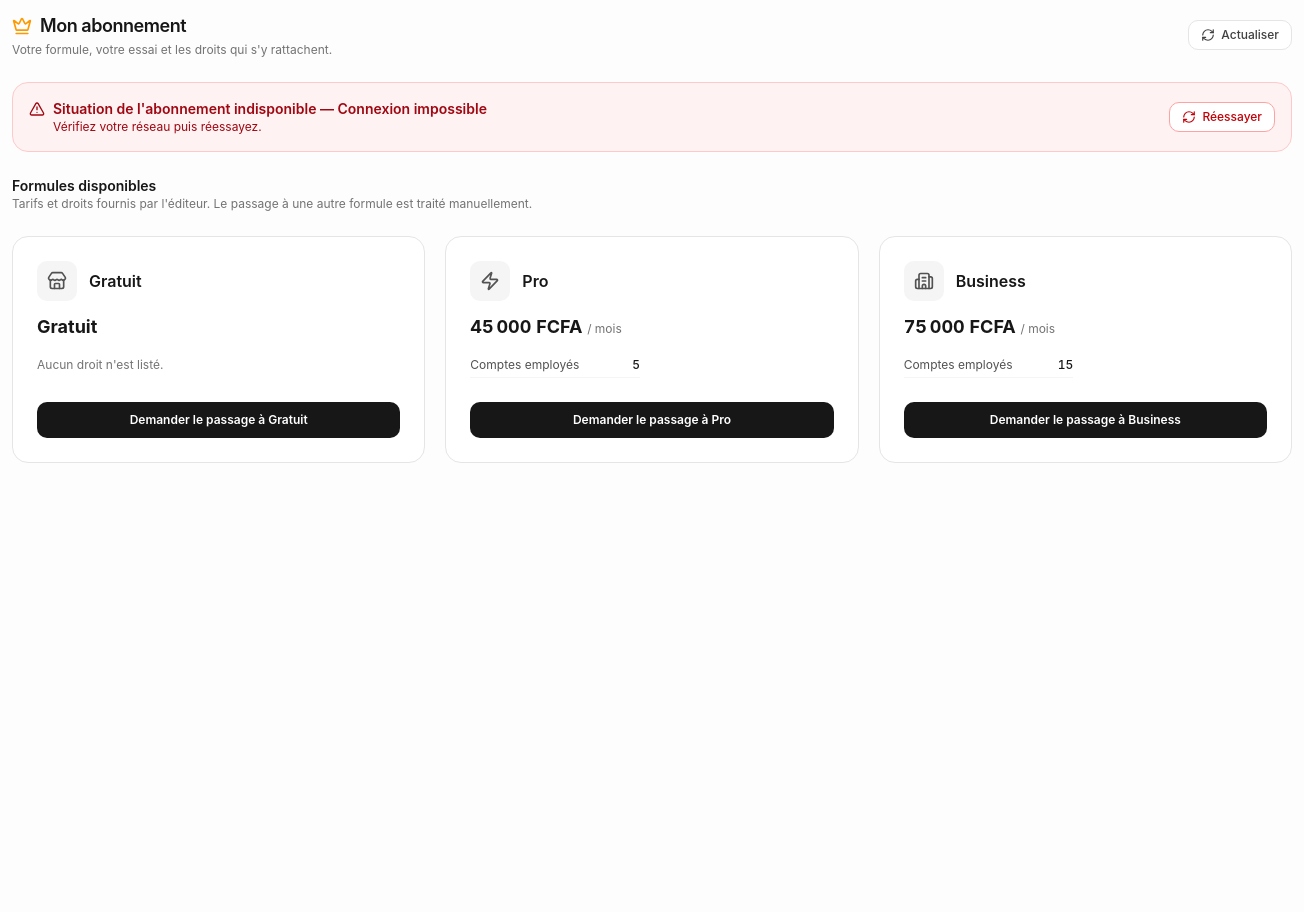
Test case: BillingView — Mon abonnement › réessaie le chargement après une erreur réseau
This screenshot has width=1304, height=912.
Check: the text "Connexion impossible" is shown, box x1=338 y1=100 x2=487 y2=117
Click the button "Réessayer". click: {"x": 1222, "y": 117}
box: x1=1169 y1=102 x2=1275 y2=132
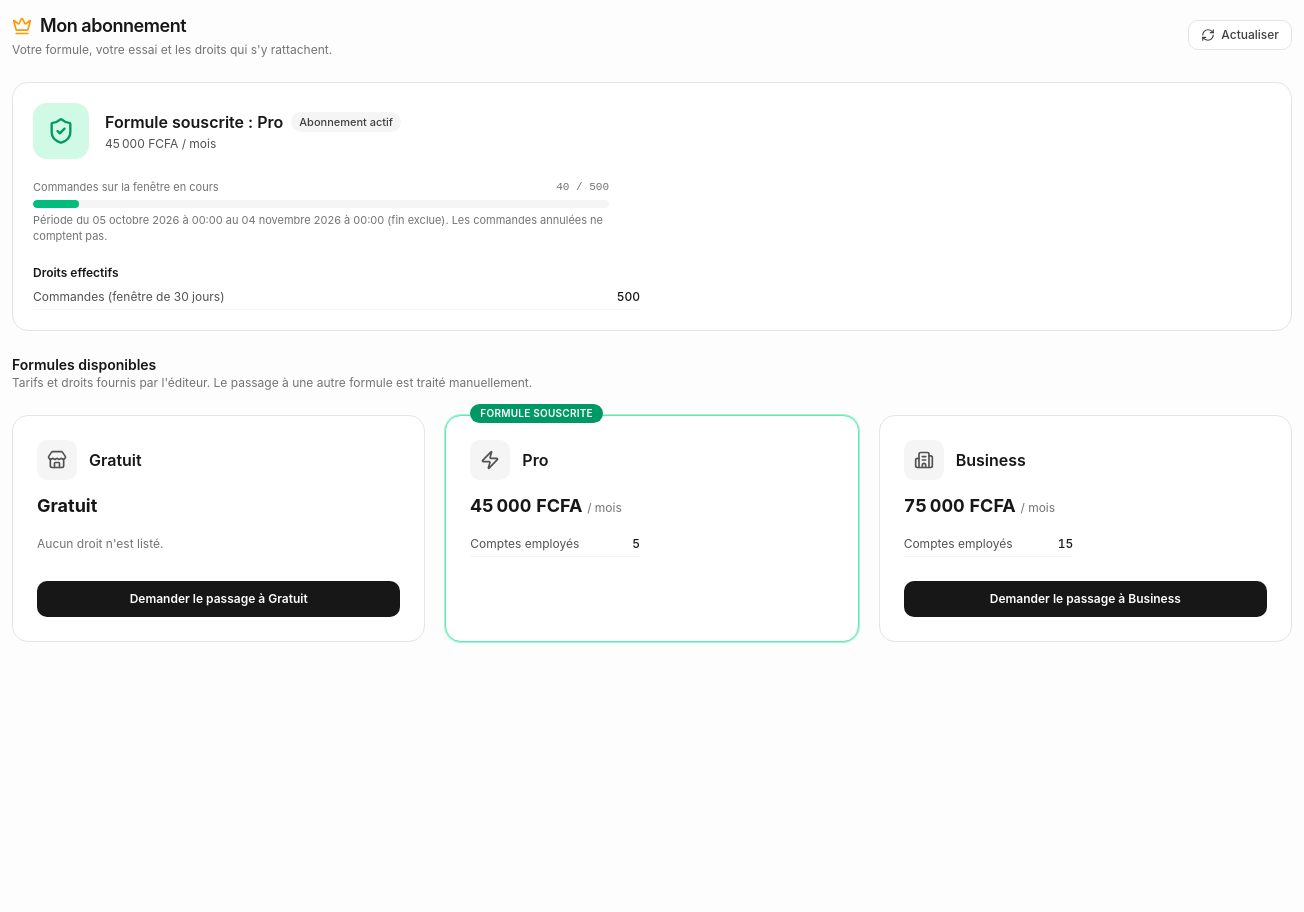
Check: the heading "Formule souscrite : Pro" is shown, box x1=105 y1=110 x2=283 y2=134
Check: the message is gone
